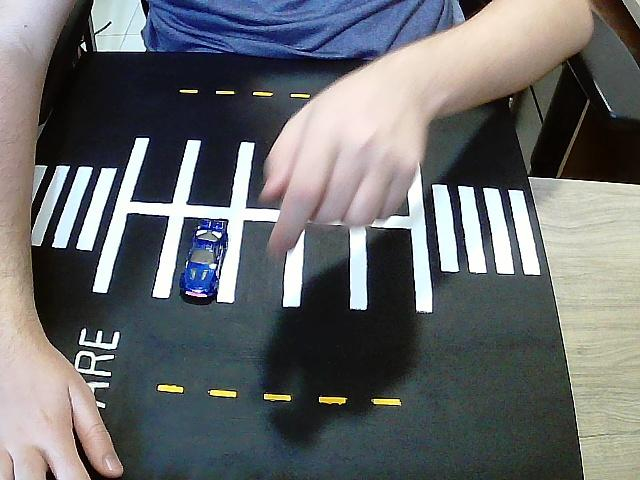Carro: (180, 219, 228, 306)
